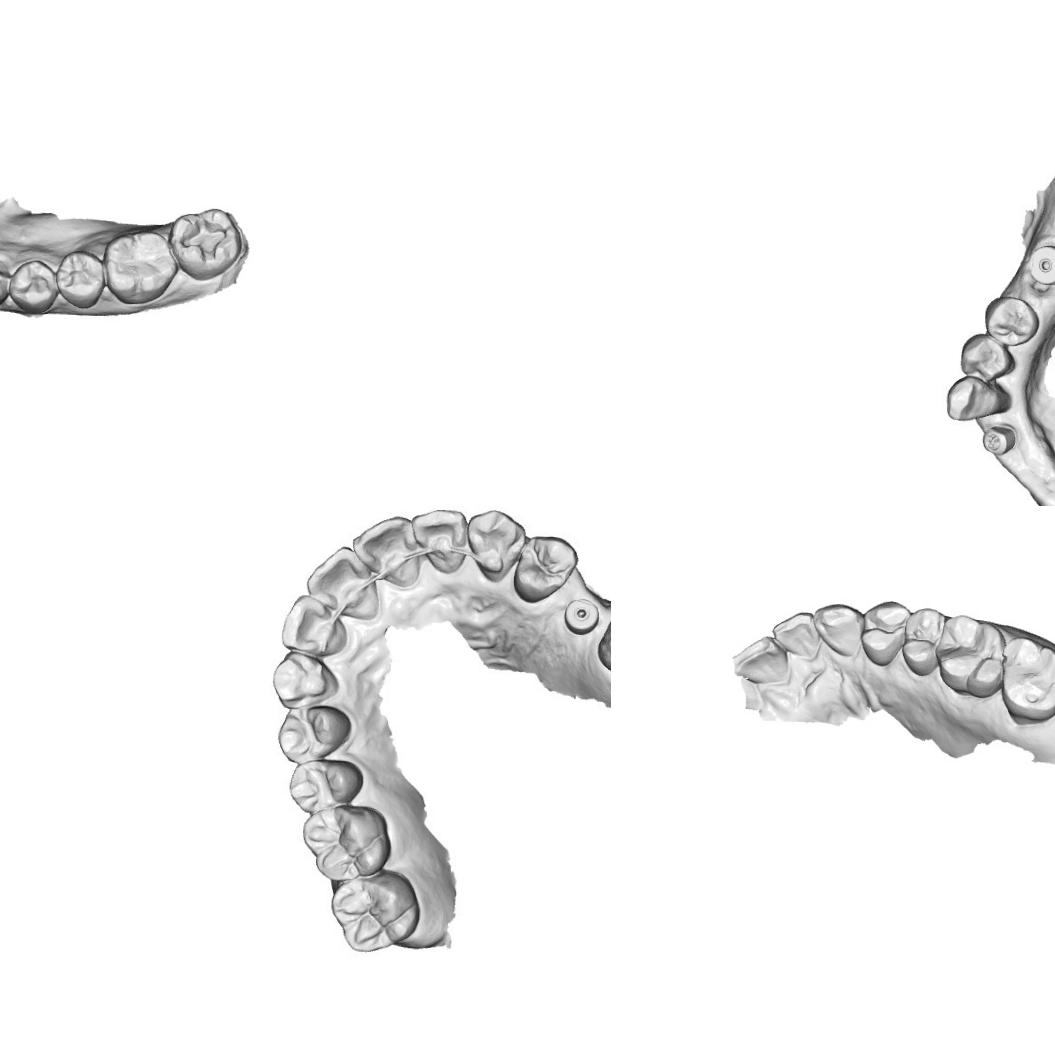canine: (463, 506, 526, 582), (272, 650, 345, 711), (944, 375, 1013, 429), (811, 598, 868, 660), (0, 255, 16, 311)
implant: (561, 592, 602, 636), (981, 424, 1020, 464), (1029, 243, 1055, 286)
incisor: (304, 544, 382, 620), (349, 514, 422, 589), (279, 592, 350, 656), (730, 633, 792, 688), (414, 510, 465, 576), (769, 609, 825, 663)
inlay: (176, 212, 236, 266)
molar: (328, 869, 420, 956), (298, 803, 393, 881), (932, 612, 1009, 701), (102, 230, 184, 306), (996, 633, 1055, 724)
premolar: (273, 703, 352, 765), (512, 534, 580, 604), (283, 757, 362, 815), (860, 594, 914, 672), (52, 247, 108, 312), (900, 606, 949, 678), (5, 257, 60, 317), (986, 296, 1039, 346), (958, 332, 1012, 380)
